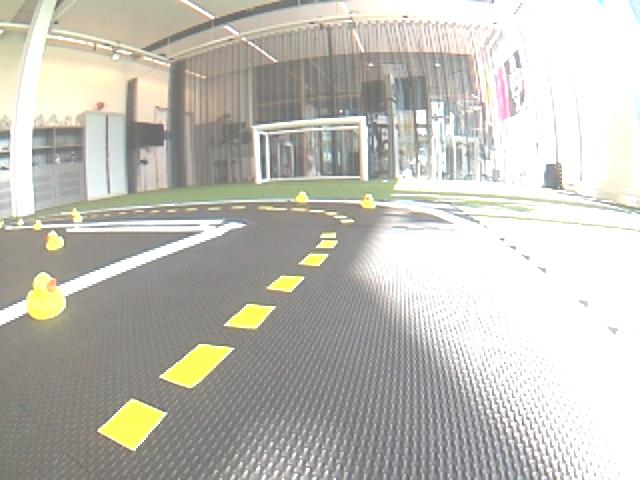Duckies: (26, 273, 66, 321), (45, 231, 64, 252), (361, 192, 378, 209), (296, 191, 309, 203), (34, 220, 44, 230), (73, 214, 84, 223), (71, 208, 79, 215), (17, 219, 24, 225)
